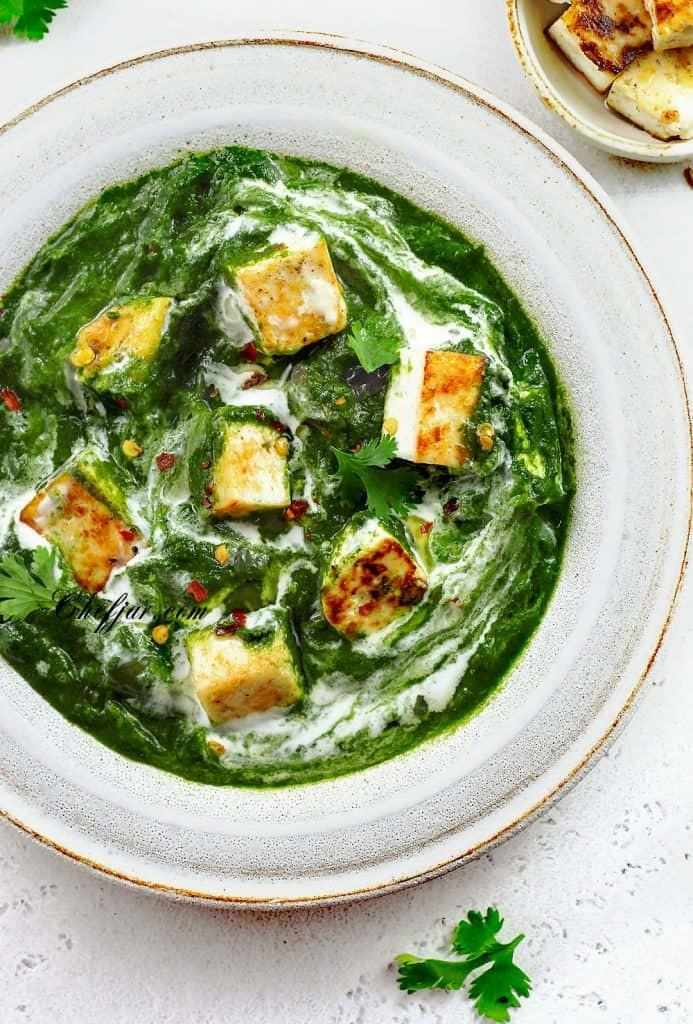PalakPaneer: (5, 146, 576, 794)
